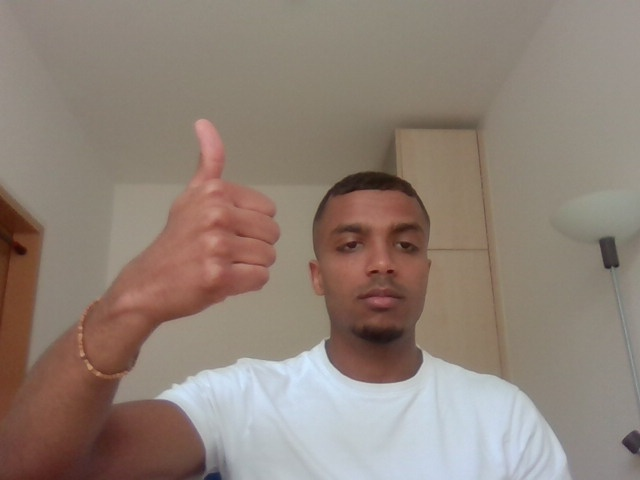yes: (105, 107, 296, 338)
